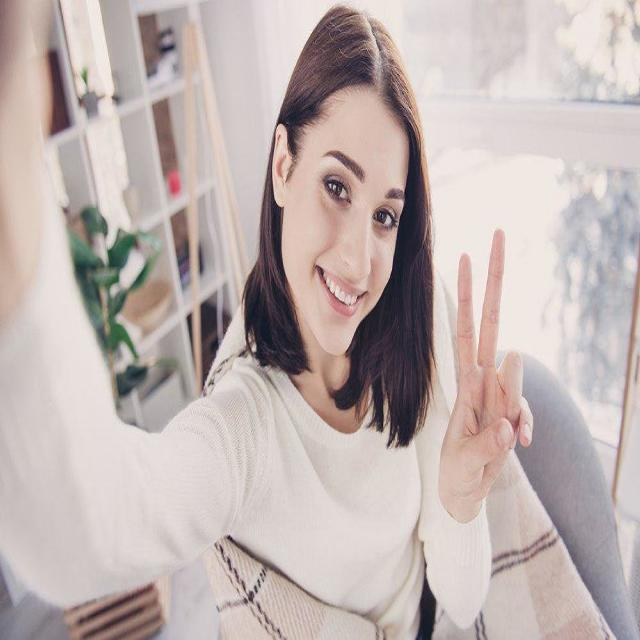earlobe: (273, 179, 286, 209)
eye: (324, 177, 352, 206), (372, 208, 396, 228)
nose: (341, 261, 372, 293)
wholeear: (272, 123, 289, 209)
